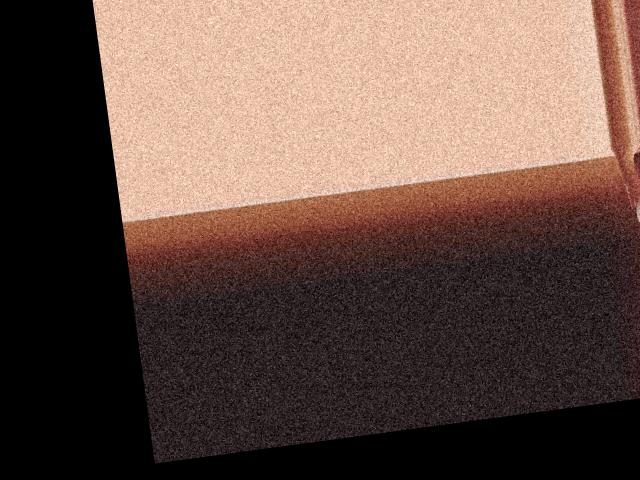egg: (632, 180, 640, 239)
